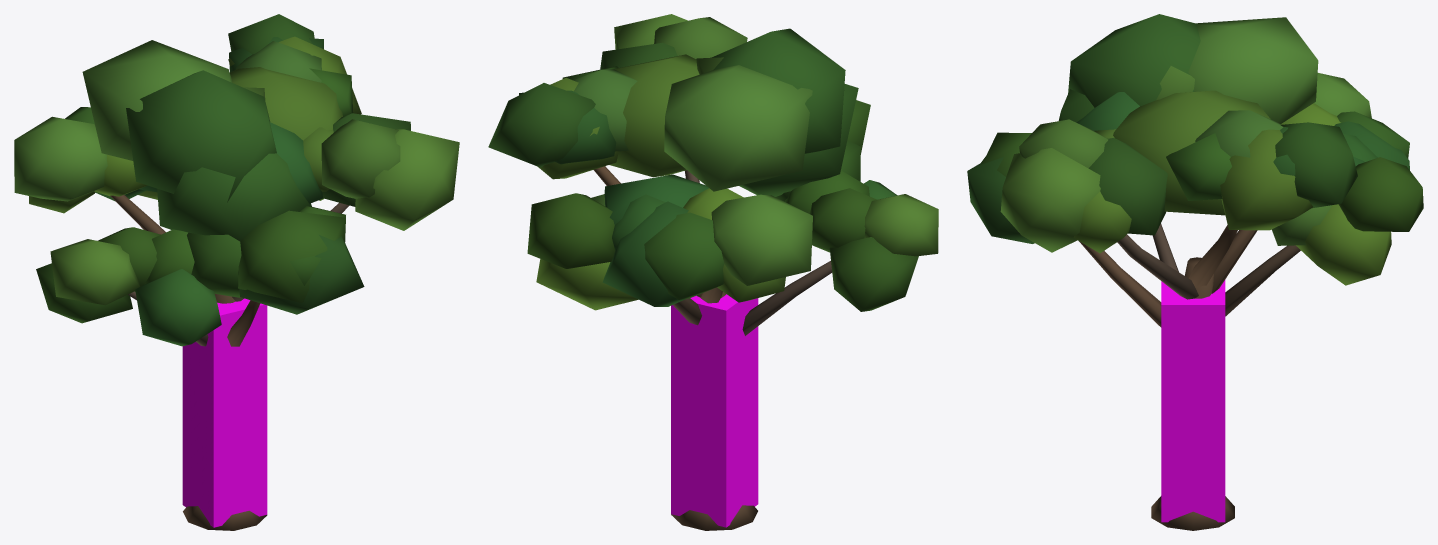
Rendered from PRP_Tree_Neem_A.glb.
3 renders of one model, left to right at view 1: azimuth 30°, elevation 25°; view 2: azimuth 150°, elevation 25°; view 3: azimuth 270°, elevation 25°, orthographic. The views are drawn at different scales.
Parts seen in each view (by area): view 1: PRP_Tree_Neem_A_Mesh, COL_Trunk; view 2: PRP_Tree_Neem_A_Mesh, COL_Trunk; view 3: PRP_Tree_Neem_A_Mesh, COL_Trunk.
Part boxes in pixels (left/top/right/bottom): PRP_Tree_Neem_A_Mesh: left=14, top=14, right=459, bottom=530; COL_Trunk: left=182, top=298, right=267, bottom=527; PRP_Tree_Neem_A_Mesh: left=488, top=14, right=938, bottom=530; COL_Trunk: left=671, top=294, right=758, bottom=527; PRP_Tree_Neem_A_Mesh: left=967, top=14, right=1423, bottom=530; COL_Trunk: left=1161, top=280, right=1225, bottom=522.
Bounding box in the file's own units: 5.35 × 6.62 × 5.71.
